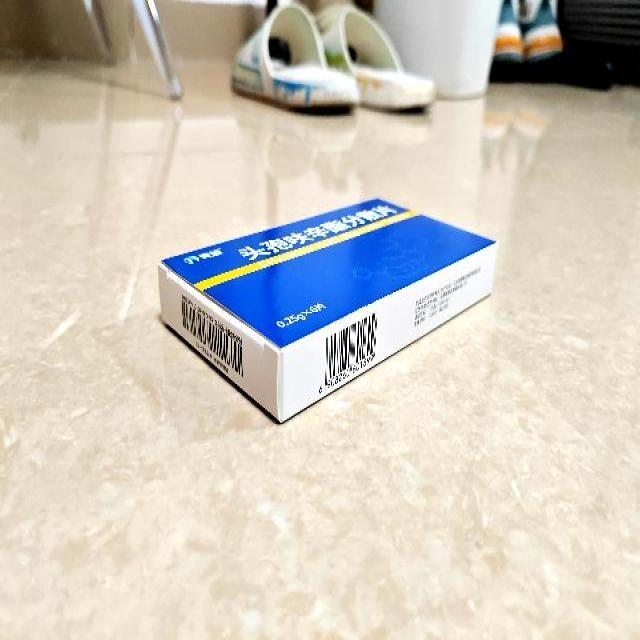box: (160, 197, 500, 424)
